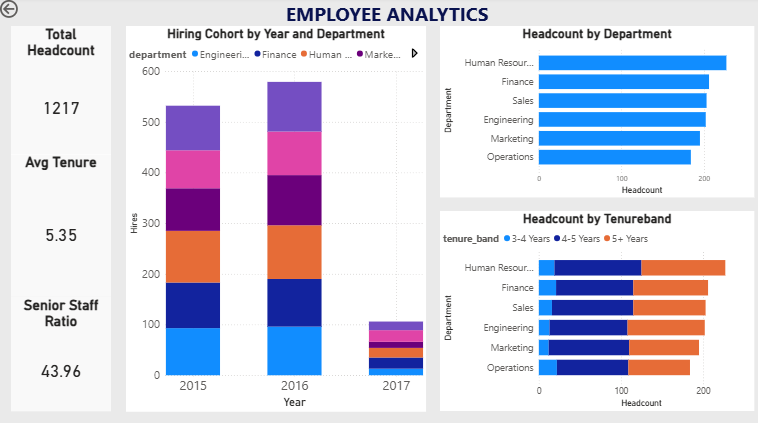

The page's visual inventory and layout, read from the dashboard file:
{"tool":"powerbi","page":{"name":"Employee Analytics","canvas":[1280,720],"ordinal":5},"visuals":[{"type":"card","title":"Total Headcount","fields":{"Values":["Measures_table.Total Headcount"]},"box":[24,48,168,216],"z":0},{"type":"card","title":"Avg Tenure","fields":{"Values":["Measures_table.Avg Tenure"]},"box":[24,264,168,240],"z":1},{"type":"card","title":"Senior Staff Ratio","fields":{"Values":["Measures_table.Senior %"]},"box":[24,504,168,192],"z":2},{"type":"clusteredBarChart","title":"Headcount by Department","fields":{"Category":["presentation vw_employee_dept_summary.department"],"Y":["Sum(presentation vw_employee_dept_summary.headcount)"]},"box":[744,48,528,288],"z":3},{"type":"barChart","title":"Headcount by Tenureband","fields":{"Category":["presentation vw_employee_tenure_distribution.department"],"Y":["Sum(presentation vw_employee_tenure_distribution.headcount)"],"Series":["presentation vw_employee_tenure_distribution.tenure_band"]},"box":[744,360,528,336],"z":4},{"type":"columnChart","title":"Hiring Cohort by Year and Department","fields":{"Category":["presentation vw_employee_hiring_cohort.hire_year"],"Y":["Sum(presentation vw_employee_hiring_cohort.hires)"],"Series":["presentation vw_employee_hiring_cohort.department"]},"box":[216,48,504,648],"z":5},{"type":"actionButton","box":[0,0,100,40],"z":7},{"type":"textbox","box":[480,0,408,72],"z":8}]}

Visuals, with their boxes in screenshot pixels (x1, y1, x2, y2), scaled from the page's 1280x720 canvas onto the 758x423 screenshot:
"Total Headcount" card: {"left": 14, "top": 28, "right": 114, "bottom": 155}
"Avg Tenure" card: {"left": 14, "top": 155, "right": 114, "bottom": 296}
"Senior Staff Ratio" card: {"left": 14, "top": 296, "right": 114, "bottom": 409}
"Headcount by Department" clusteredBarChart: {"left": 441, "top": 28, "right": 753, "bottom": 197}
"Headcount by Tenureband" barChart: {"left": 441, "top": 212, "right": 753, "bottom": 409}
"Hiring Cohort by Year and Department" columnChart: {"left": 128, "top": 28, "right": 426, "bottom": 409}
actionButton: {"left": 0, "top": 0, "right": 59, "bottom": 24}
textbox: {"left": 284, "top": 0, "right": 526, "bottom": 42}
